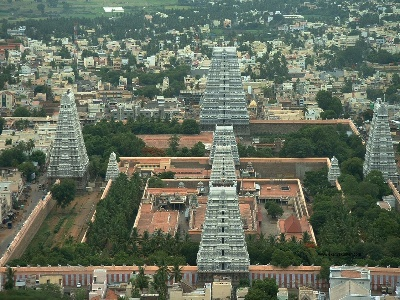gopura: (198, 134, 248, 273), (198, 44, 267, 123), (47, 91, 103, 183), (361, 97, 397, 175)
